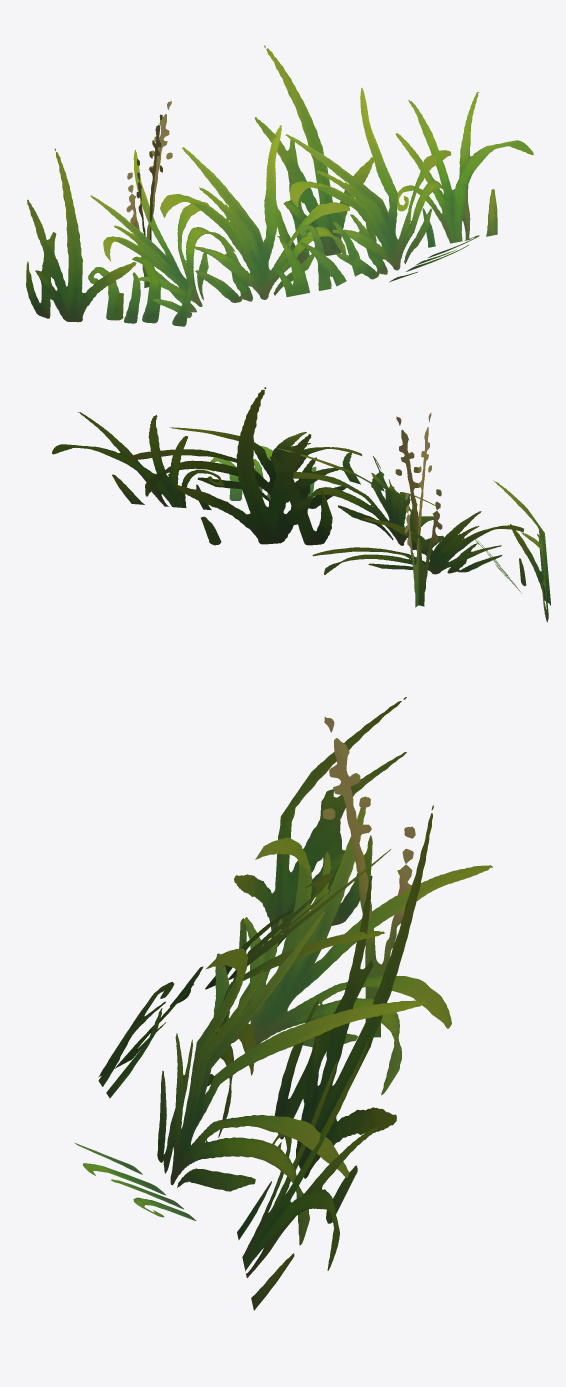
The model's file is loyalismwood_grass01.FBX.
3 renders of one model, top to bottom at view 1: azimuth 30°, elevation 25°; view 2: azimuth 150°, elevation 25°; view 3: azimuth 270°, elevation 25°, orthographic. The views are drawn at different scales.
Visible parts, largest first — view 1: loyalismwood_grass03; view 2: loyalismwood_grass03; view 3: loyalismwood_grass03.
Part boxes in pixels (x1,y1,x2,y2): loyalismwood_grass03: (26, 45, 533, 326); loyalismwood_grass03: (52, 387, 550, 622); loyalismwood_grass03: (74, 697, 492, 1310).
Size of the model in its own units: 356 by 181 by 157.
